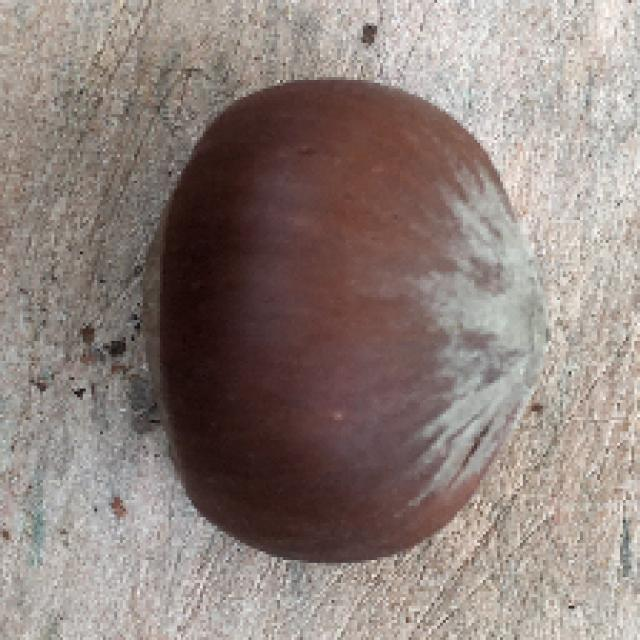damagedHazelnut: (136, 68, 562, 571)
